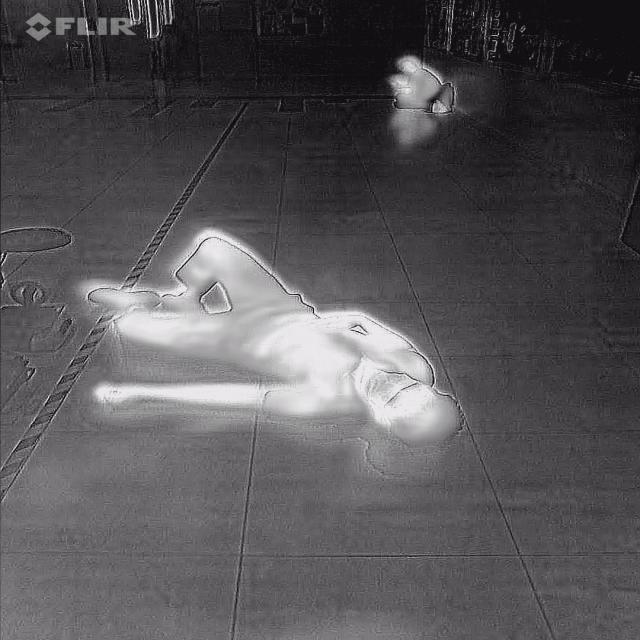Victim: (78, 226, 475, 448), (380, 49, 465, 120)
